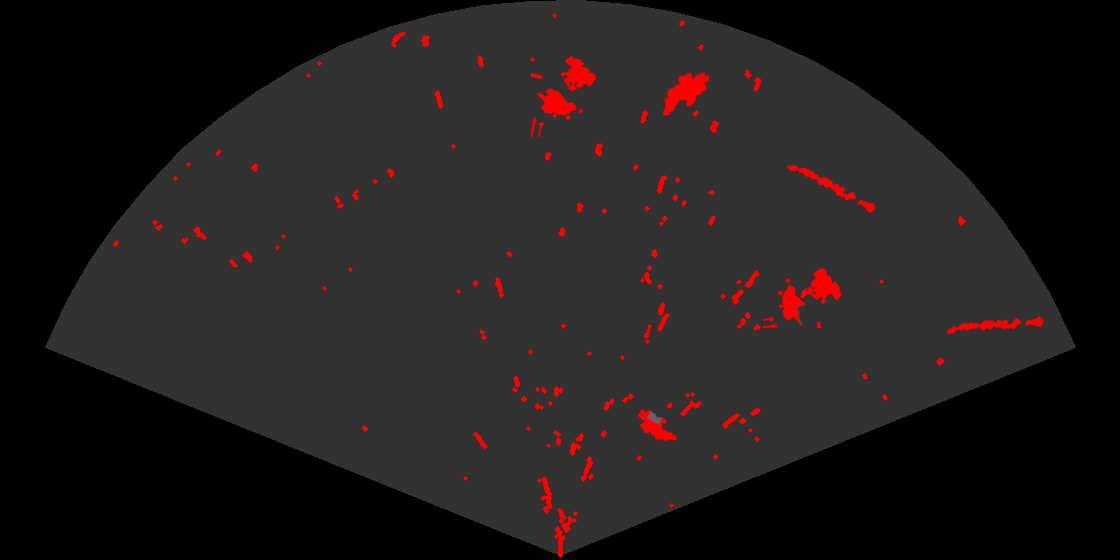AUV: (661, 70, 711, 118), (636, 408, 678, 443)
cage: (531, 54, 598, 137), (763, 266, 844, 328)
chain: (785, 164, 877, 215), (945, 315, 1044, 336)
